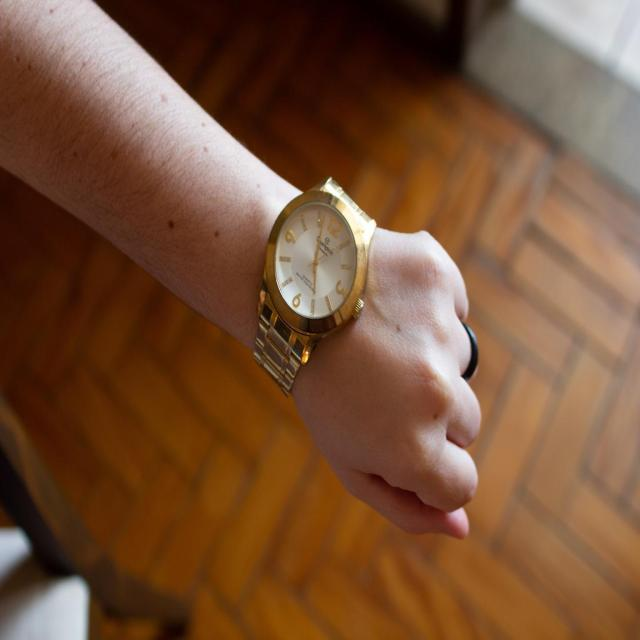Wrist watch: (251, 176, 377, 398)
